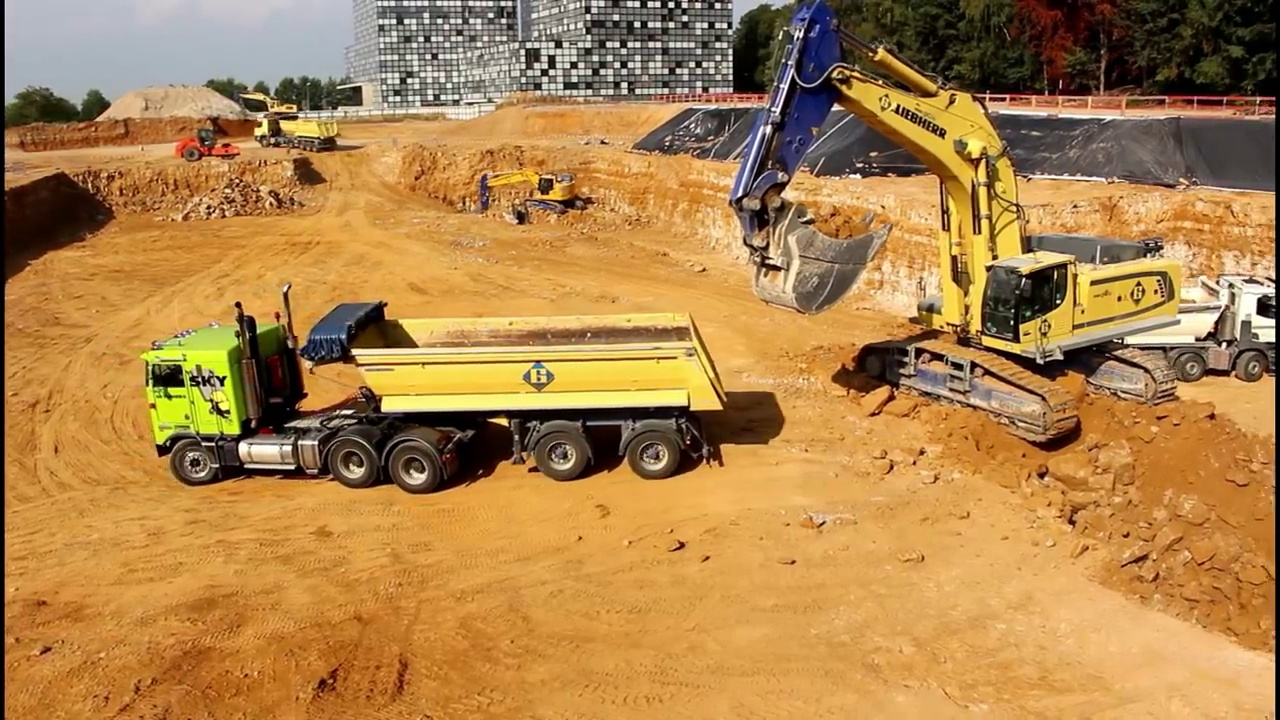compactor: (173, 123, 243, 162)
excavator: (728, 1, 1183, 452), (466, 167, 594, 226), (240, 83, 302, 123)
truck: (137, 276, 730, 499), (992, 244, 1280, 388), (257, 110, 342, 159)
